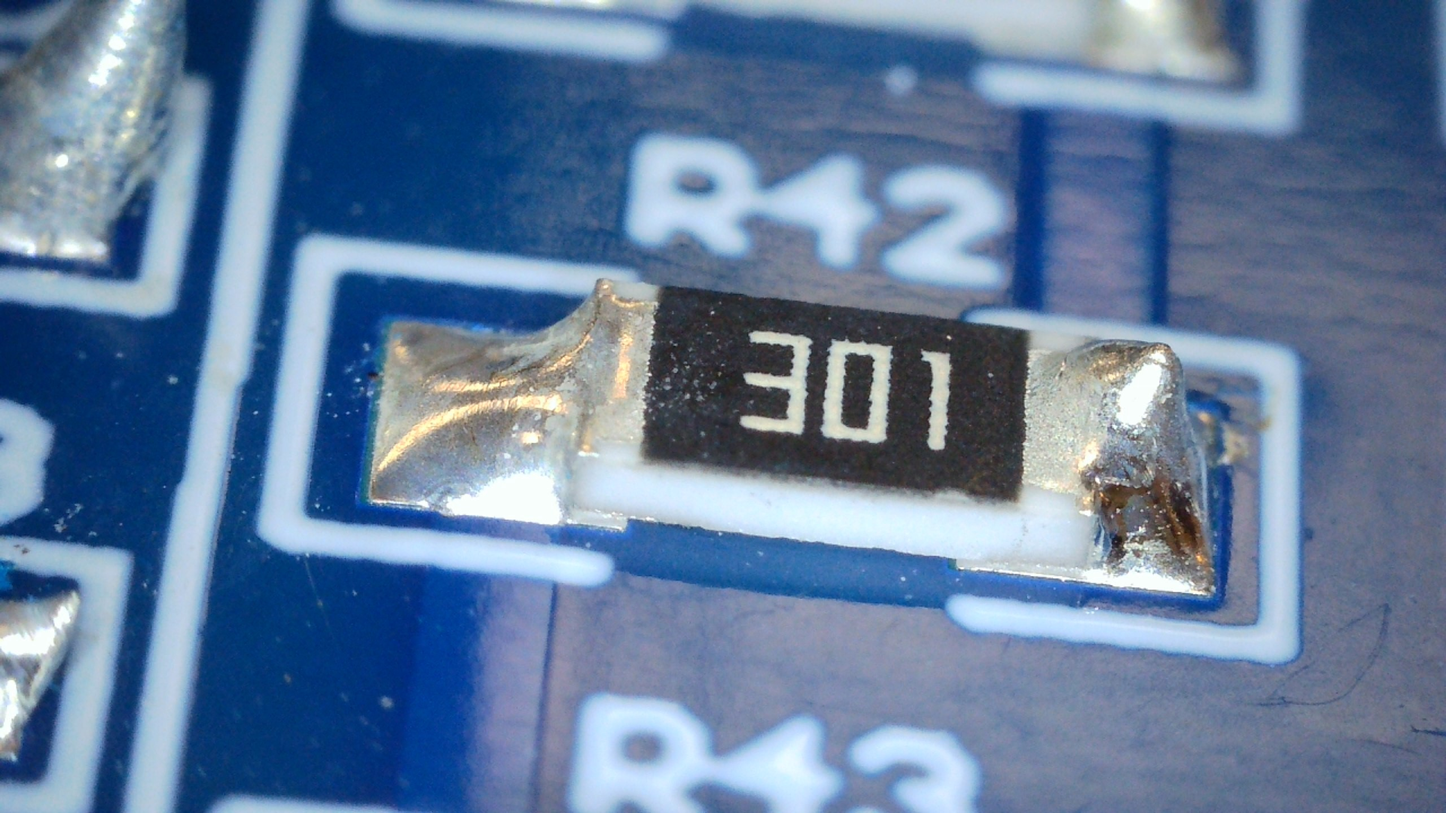NG: (1043, 340, 1215, 591)
OK: (372, 279, 658, 517)
